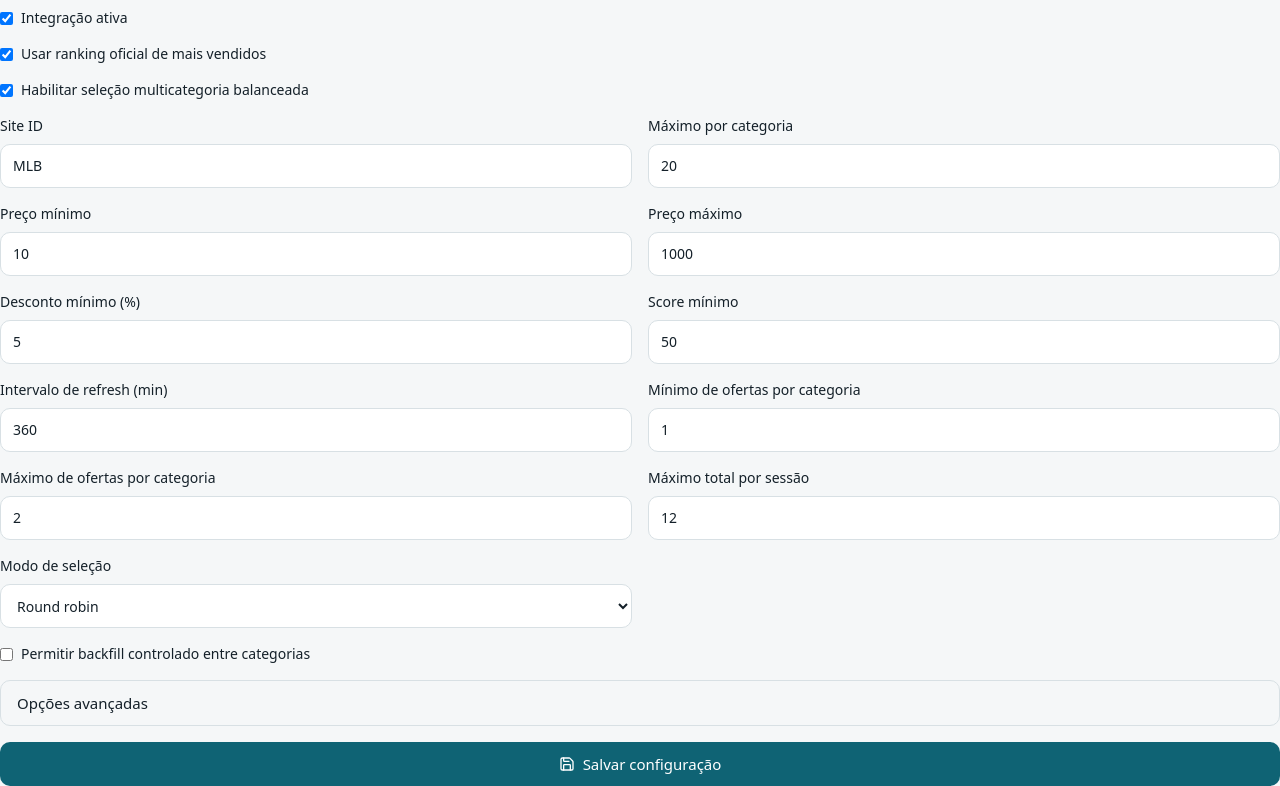
Test: DiscoverySettingsForm › shows field-safe errors inline
The width and height of the screenshot is (1280, 786).
(page scrolled)
Step 1. Click the button "Salvar configuração" → x=640, y=764, box left=0, top=742, right=1279, bottom=785
(page scrolled)
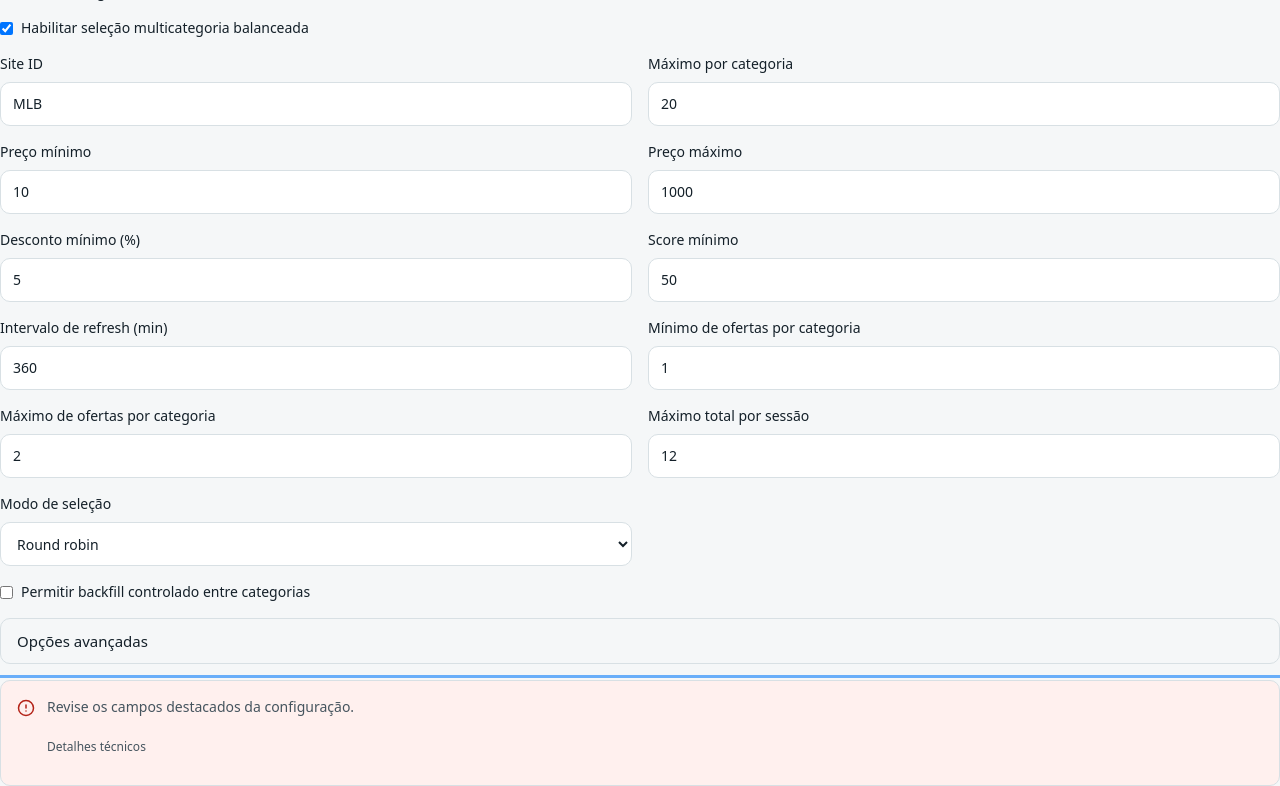
expect the text "Revise os campos destacados da configuração." is shown: met, box left=47, top=697, right=354, bottom=716
